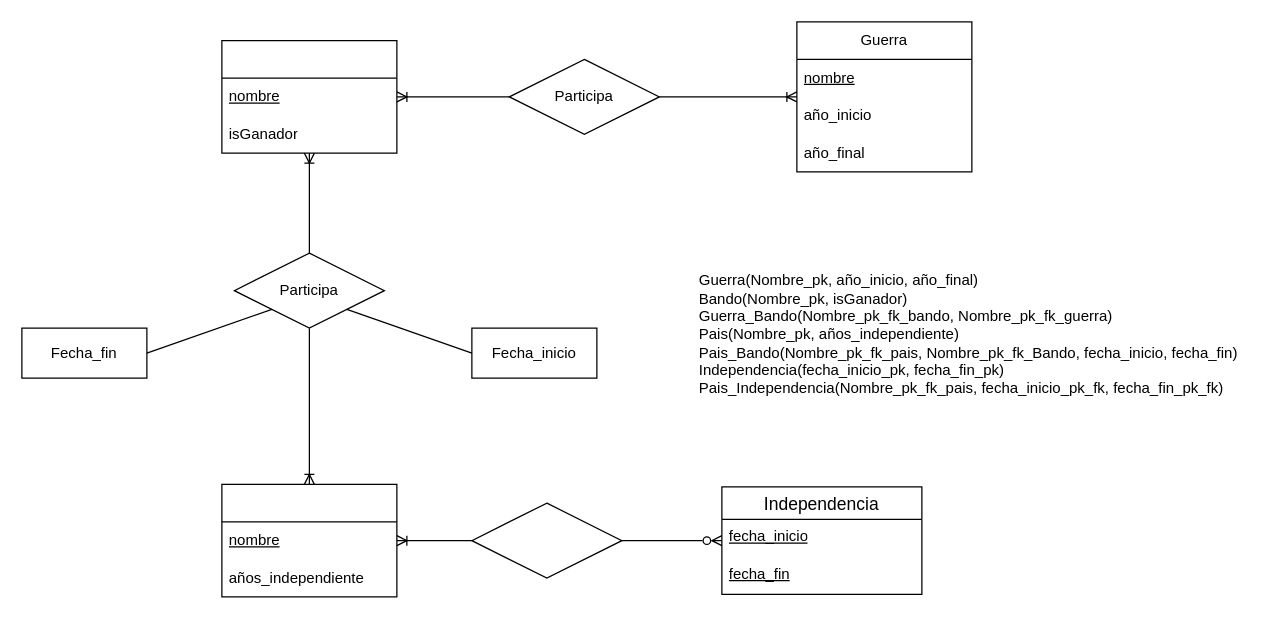
This 1281x620 diagram has some shape labels left out. The shapes that lost their labels are listed below. From the top down, each one's box as (x1, y1, x2, y2) in pixels, then its label:
(221, 39, 397, 153): Bando
(221, 483, 397, 597): Pais
(471, 502, 622, 578): Fue
